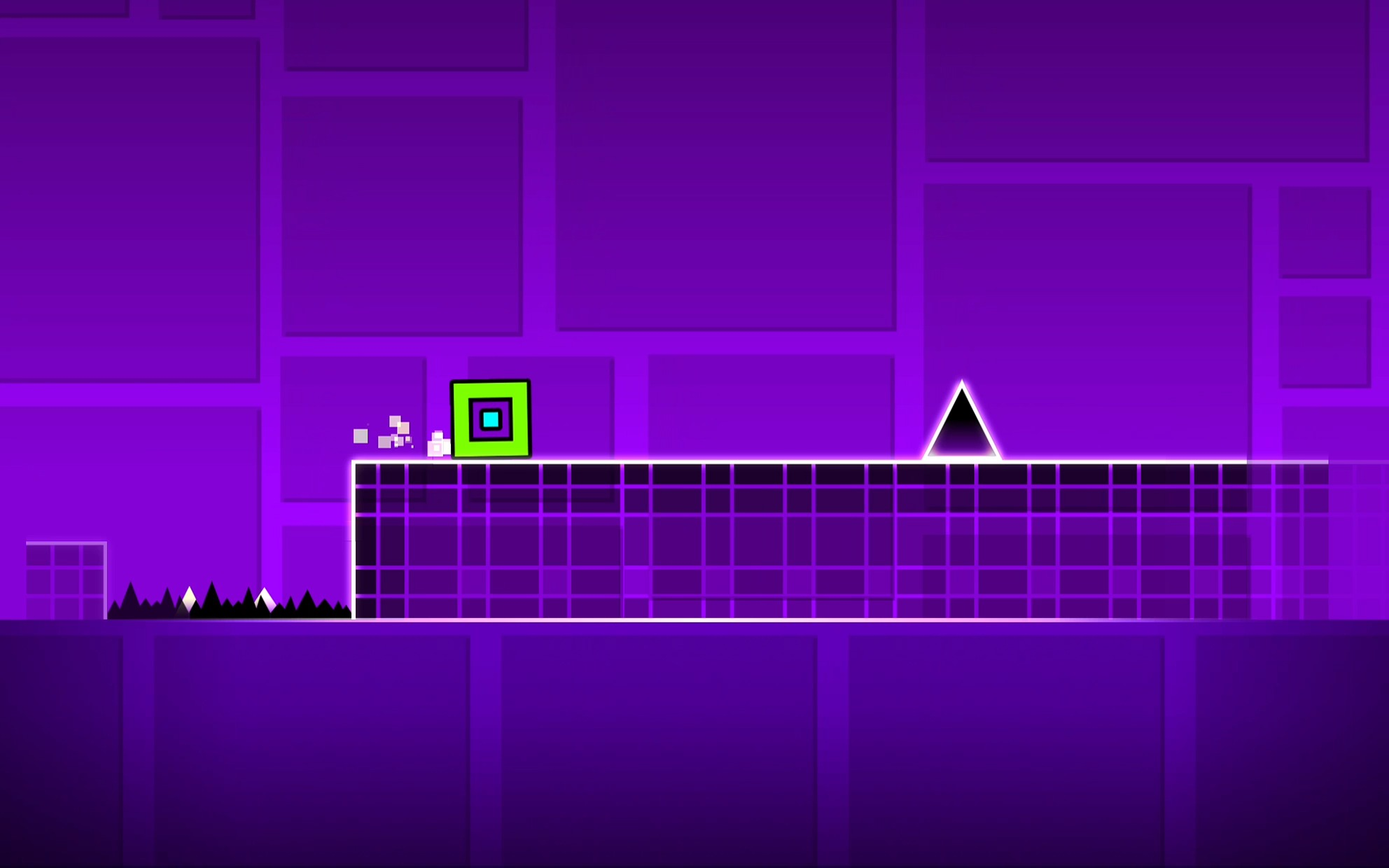Block2: (353, 458, 1389, 622), (0, 541, 105, 617)
Player: (450, 379, 531, 458)
Spike: (923, 380, 1000, 457)
Spike3: (105, 580, 357, 619)
